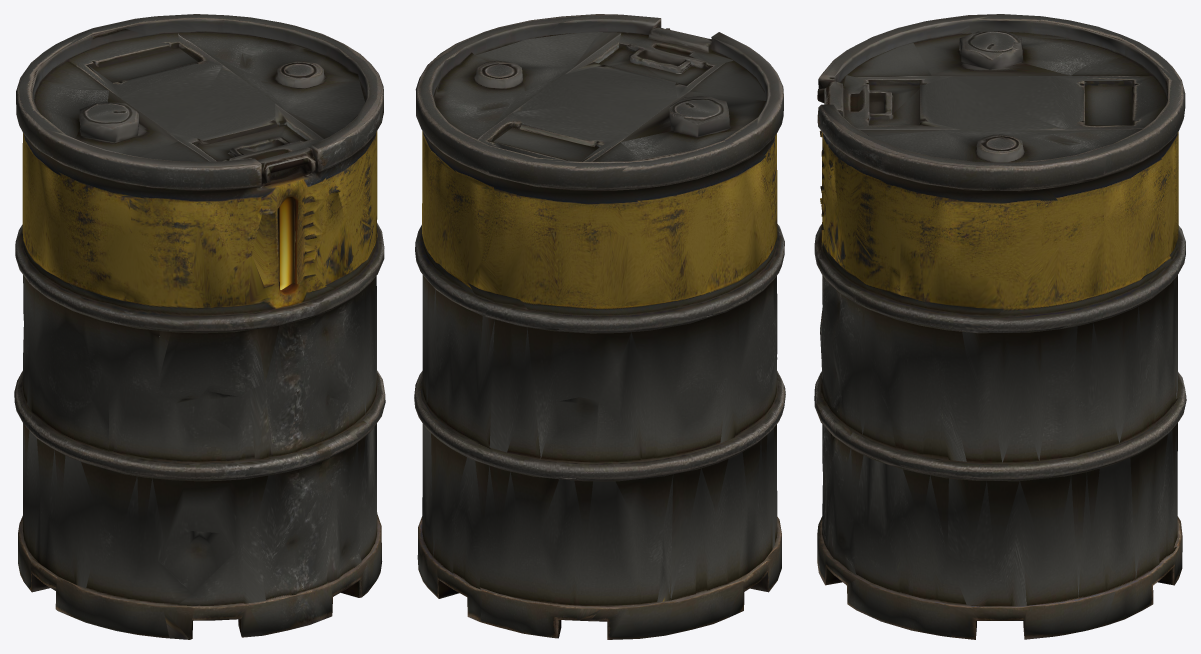
Rendered from fuel_barrel.glb.
3 renders of one model, left to right at view 1: azimuth 30°, elevation 25°; view 2: azimuth 150°, elevation 25°; view 3: azimuth 270°, elevation 25°, orthographic.
Size of the model in its own units: 0.7068 by 0.9996 by 0.7084.
Materials: 1 (1 with a texture image).
